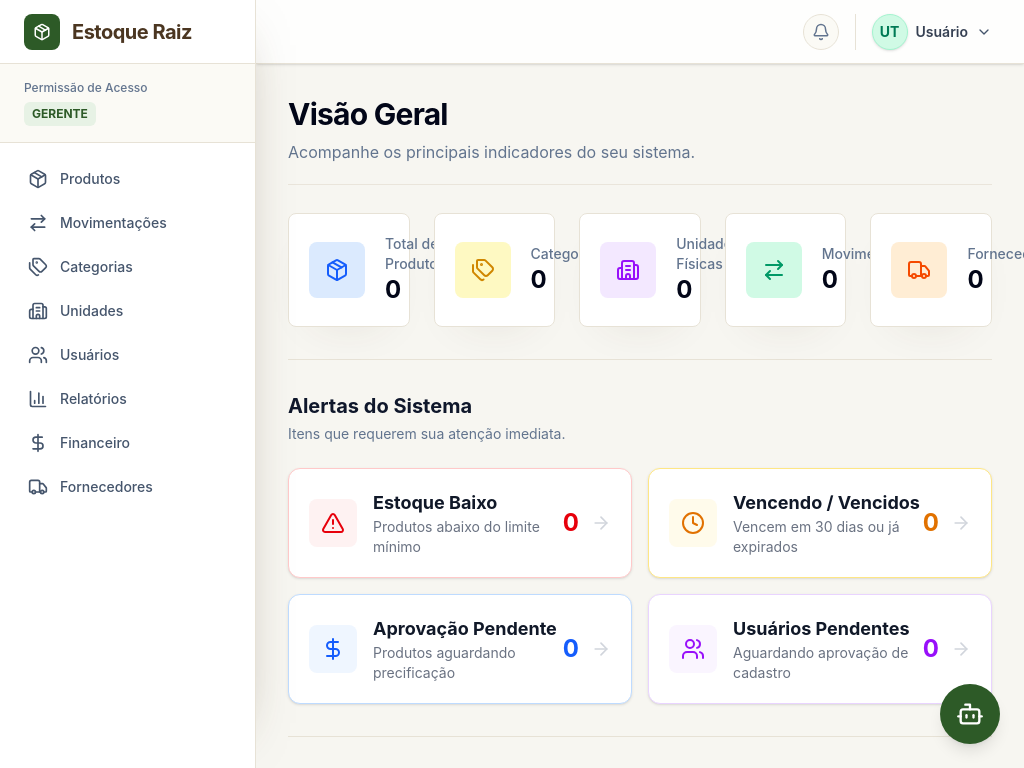
Test case: Dashboard e Controle de Acesso (RBAC) › Modal de Perfil › Deve abrir o modal de perfil ao clicar em "Meu Perfil"
Step 1. Click the button with test id "menu-usuario-btn" → (933, 32), box [872,14,993,50]
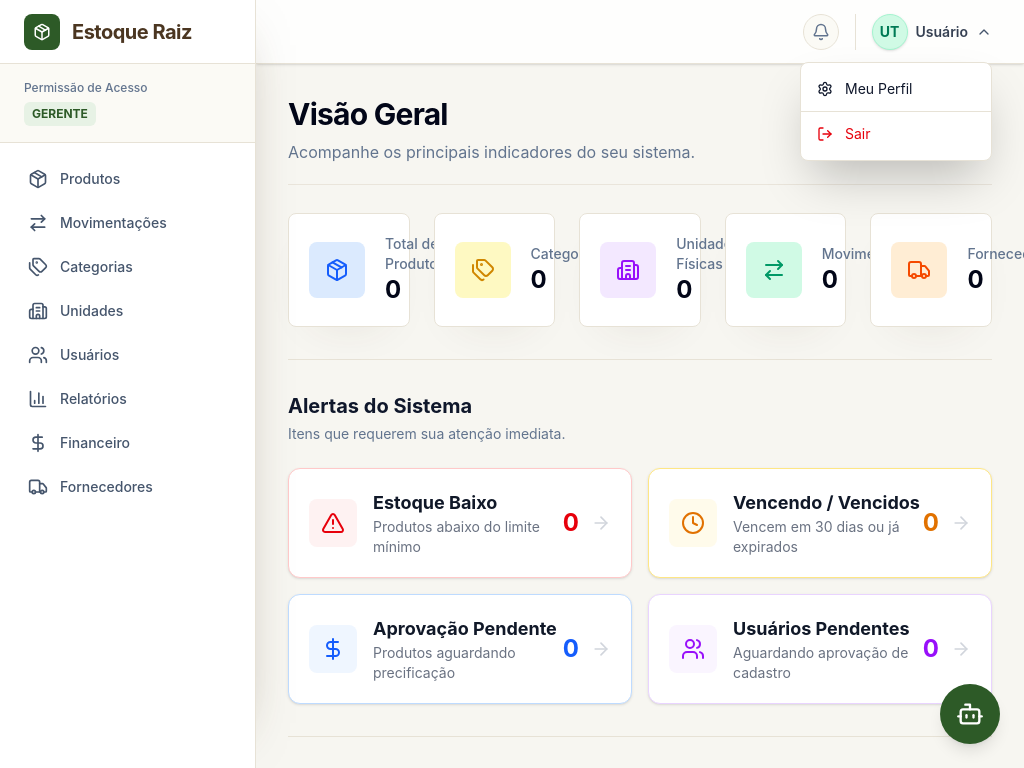
Step 2. Click the button "Meu Perfil" → (896, 89), box [801,71,991,107]
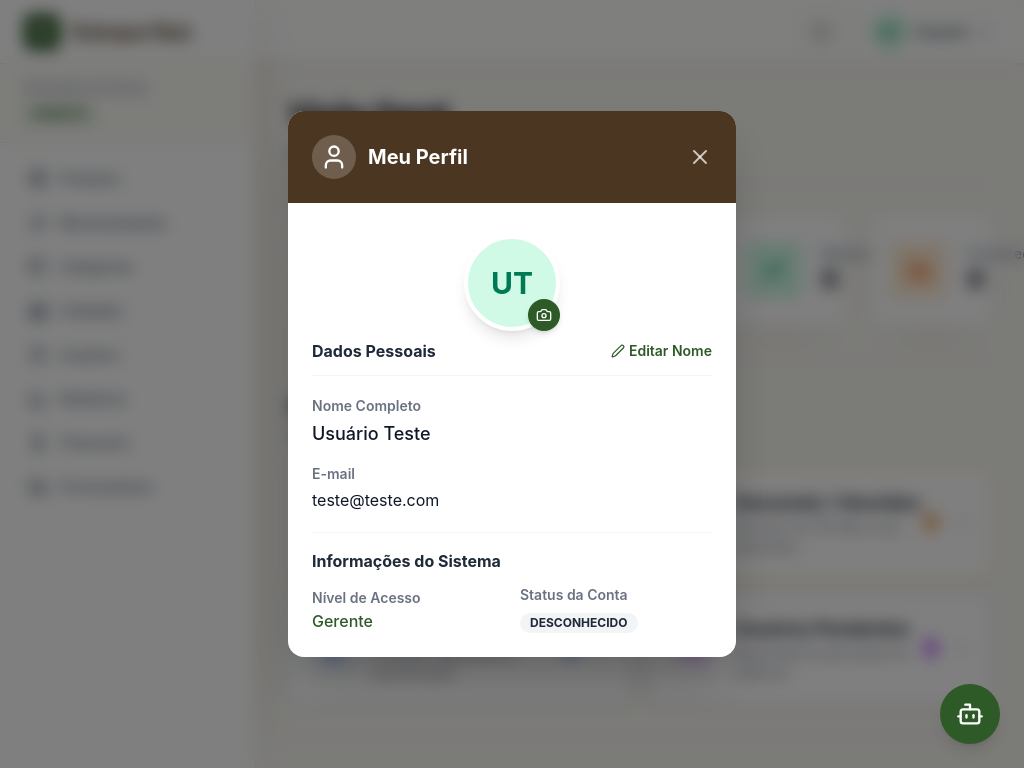
Check: the heading "Dados Pessoais" is shown, box [312,339,436,363]
Check: the text "teste@teste.com" is shown, box [312,490,439,510]
